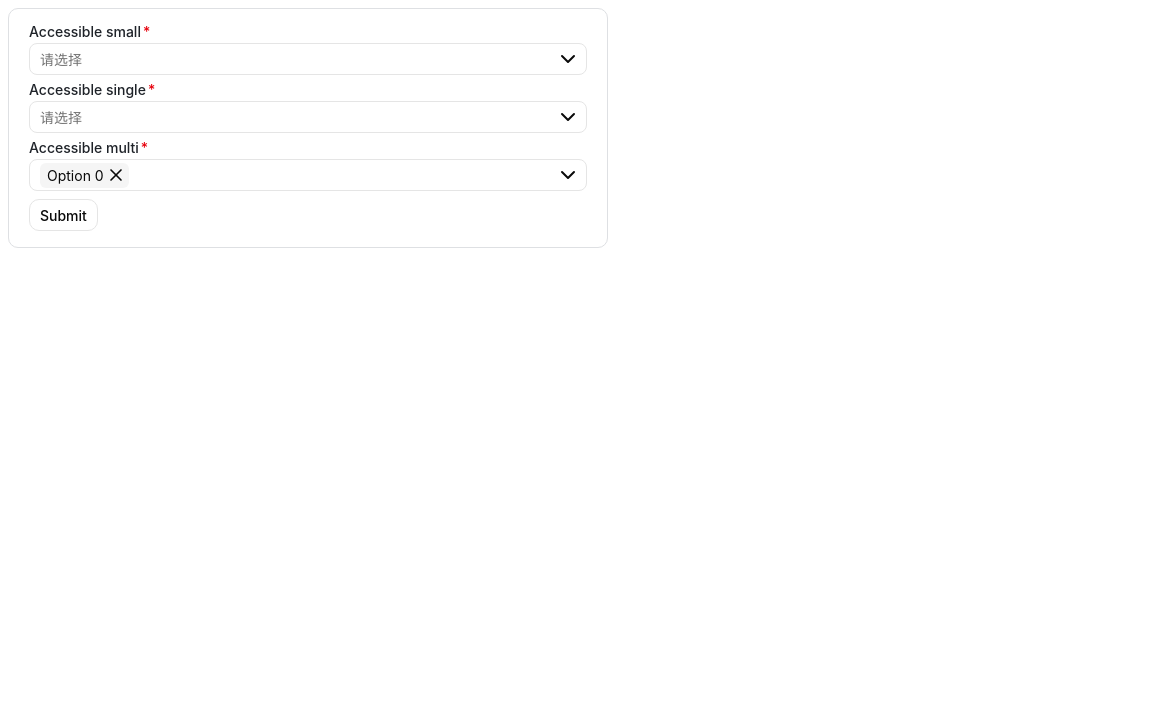
Test: keeps the mobile Drawer, search, listbox, chips, and close controls accessible
This screenshot has width=1152, height=720.
Click the button named "Accessible multi，打开选项".
click(568, 175)  # box [556,163,580,187]
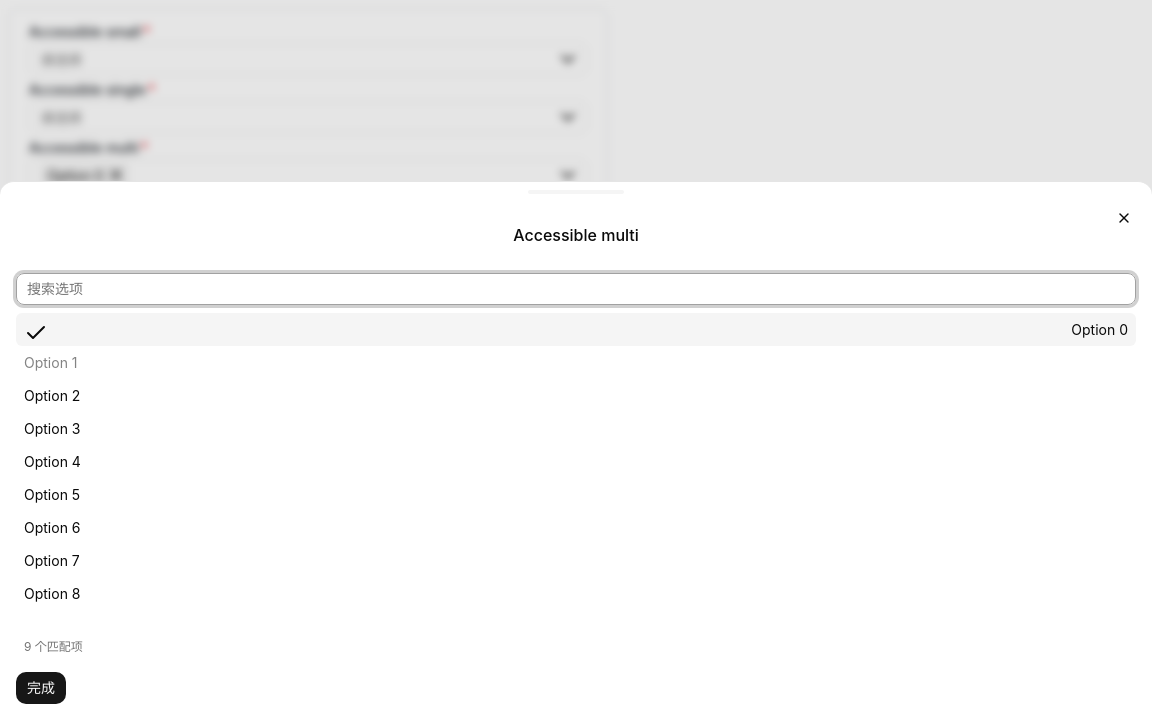
Expected: the dialog "Accessible multi" is shown
Expected: the dropdown named "搜索Accessible multi" is shown, [16,273,1136,305]
